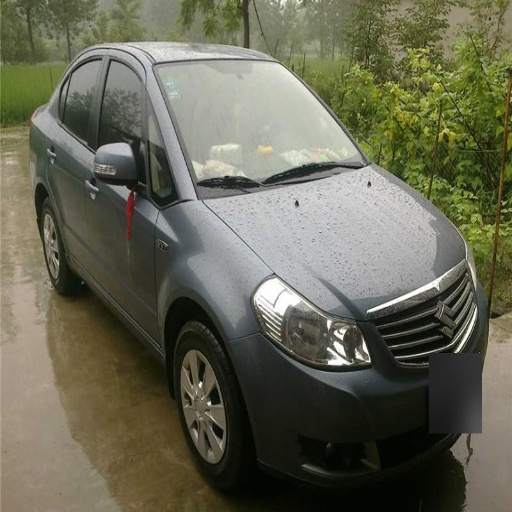front_bumper: (230, 303, 486, 493)
front_right_door: (85, 53, 163, 329)
front_right_light: (254, 276, 373, 369)
